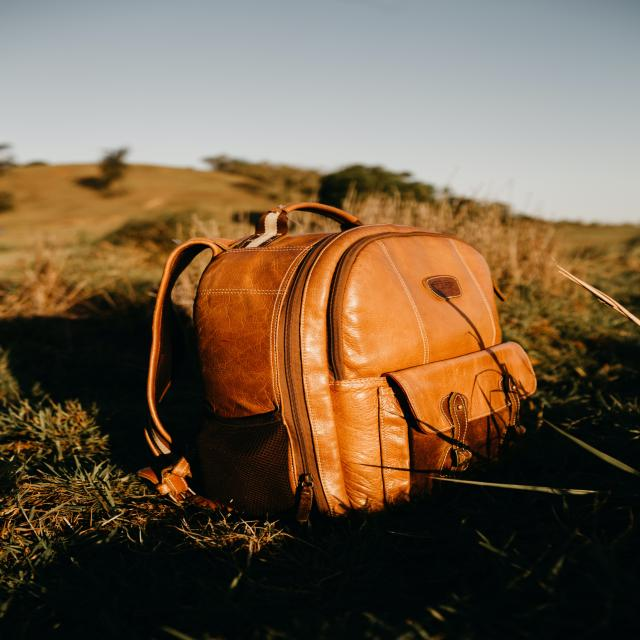backpack: (133, 199, 546, 521)
